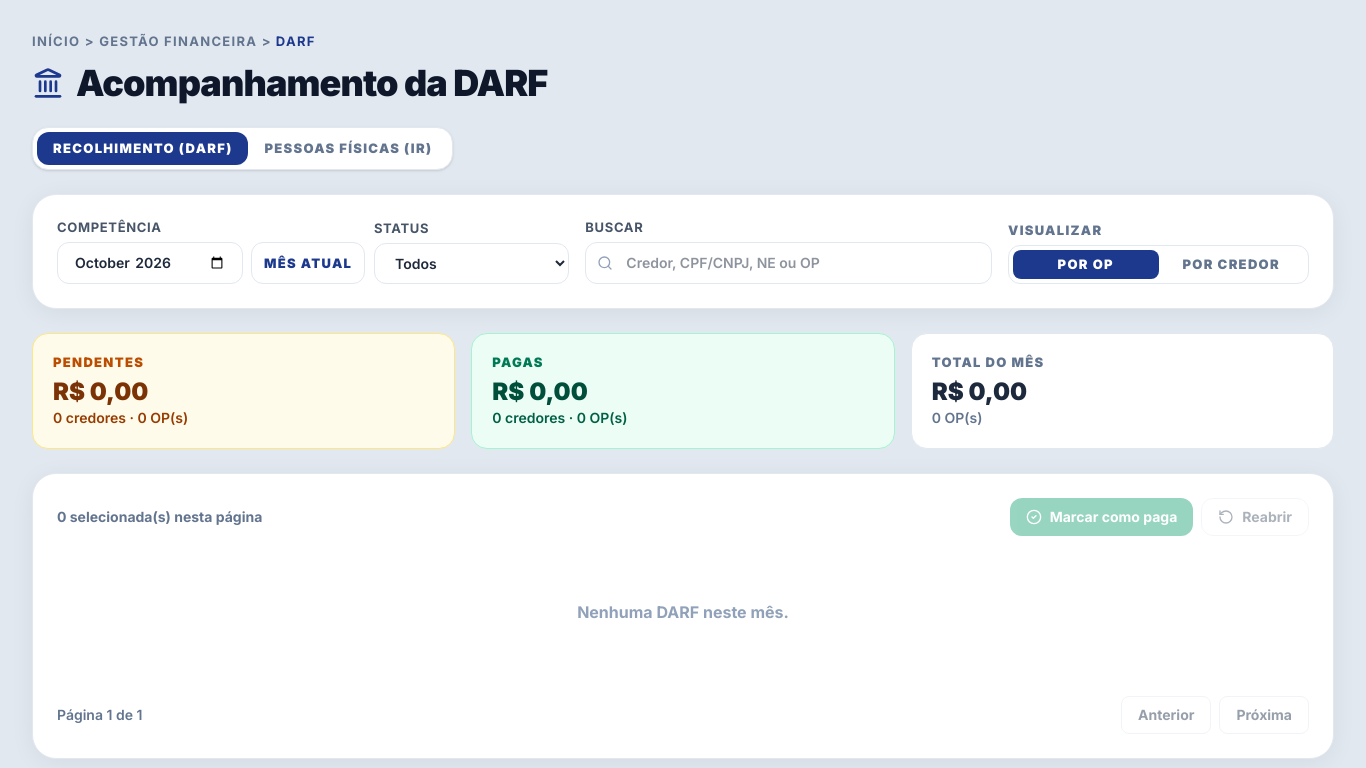
Test: Visão "Pessoas físicas (IR)" na aba DARF › a página abre na DARF; a visão do IR pede o relatório sem ano e mostra pessoas, cartões e o ano
The width and height of the screenshot is (1366, 768).
Expected: the text "Nenhuma DARF neste mês." is shown, [577,602,789,622]
Press the mouse on the tab "Pessoas físicas (IR)": (348, 148) [248,132,448,165]
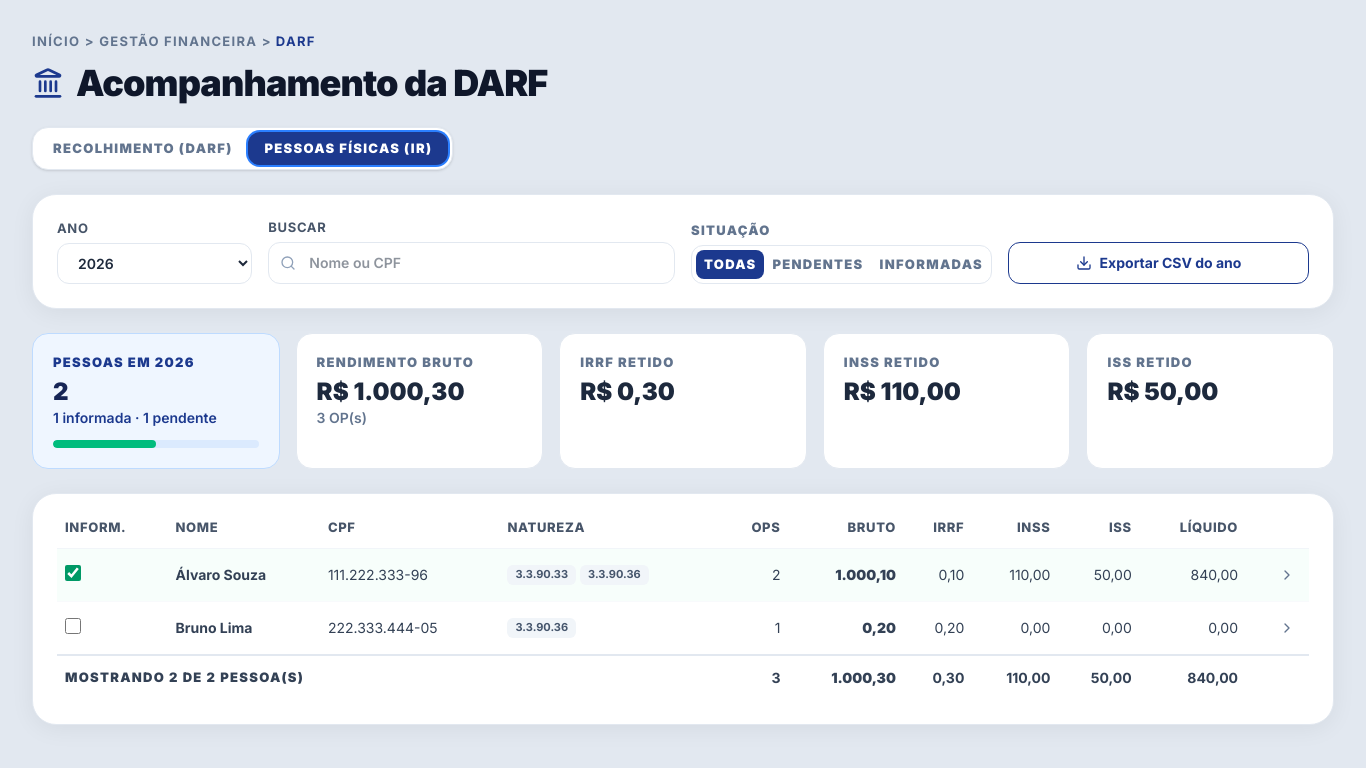
Expected: the text "Álvaro Souza" is shown, [168,549,320,602]
Expected: the element with test id "ir-resumo-bruto" shows "R$ 1.000,30", [317,376,464,406]
Expected: the element with test id "ir-resumo-irrf" shows "R$ 0,30", [580,376,675,406]
